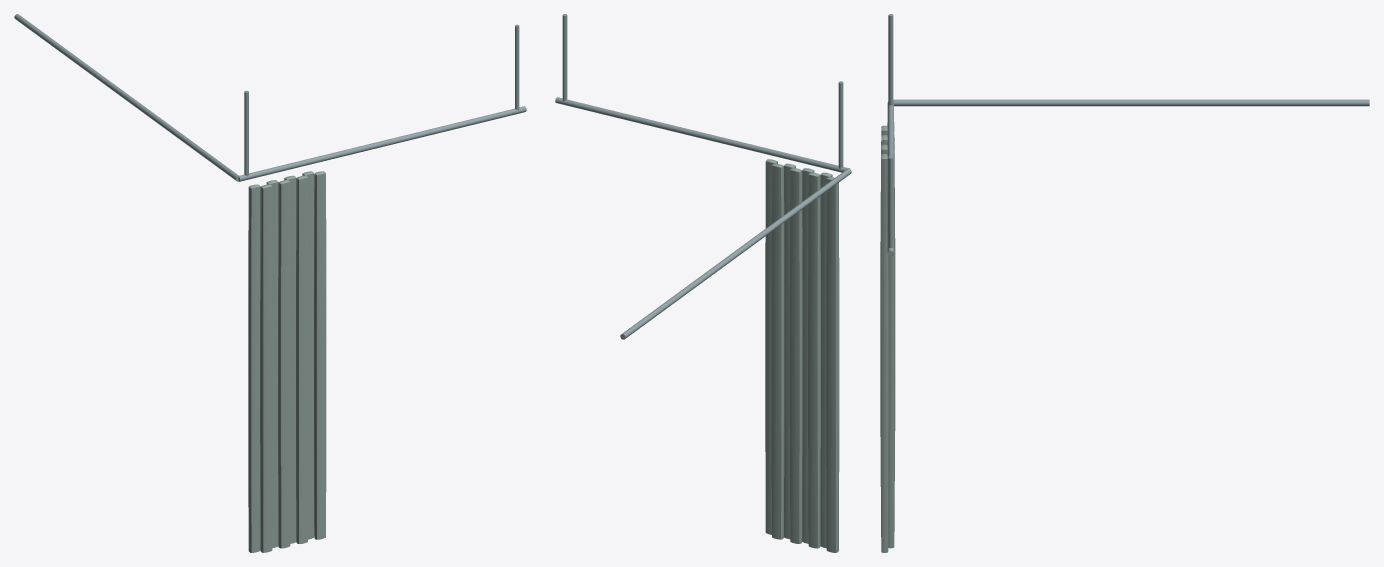
File: privacy-curtain.glb
3 renders of one model, left to right at view 1: azimuth 30°, elevation 25°; view 2: azimuth 150°, elevation 25°; view 3: azimuth 270°, elevation 25°, orthographic. The views are drawn at different scales.
Parts seen in each view (by area): view 1: privacy-curtain; view 2: privacy-curtain; view 3: privacy-curtain.
Part boxes in pixels (x1,y1,x2,y2): privacy-curtain: (14, 14, 526, 552); privacy-curtain: (555, 14, 851, 552); privacy-curtain: (880, 14, 1369, 552).
Size of the model in its own units: 1.45 by 2.22 by 1.97.
12 materials, 12 textured.
